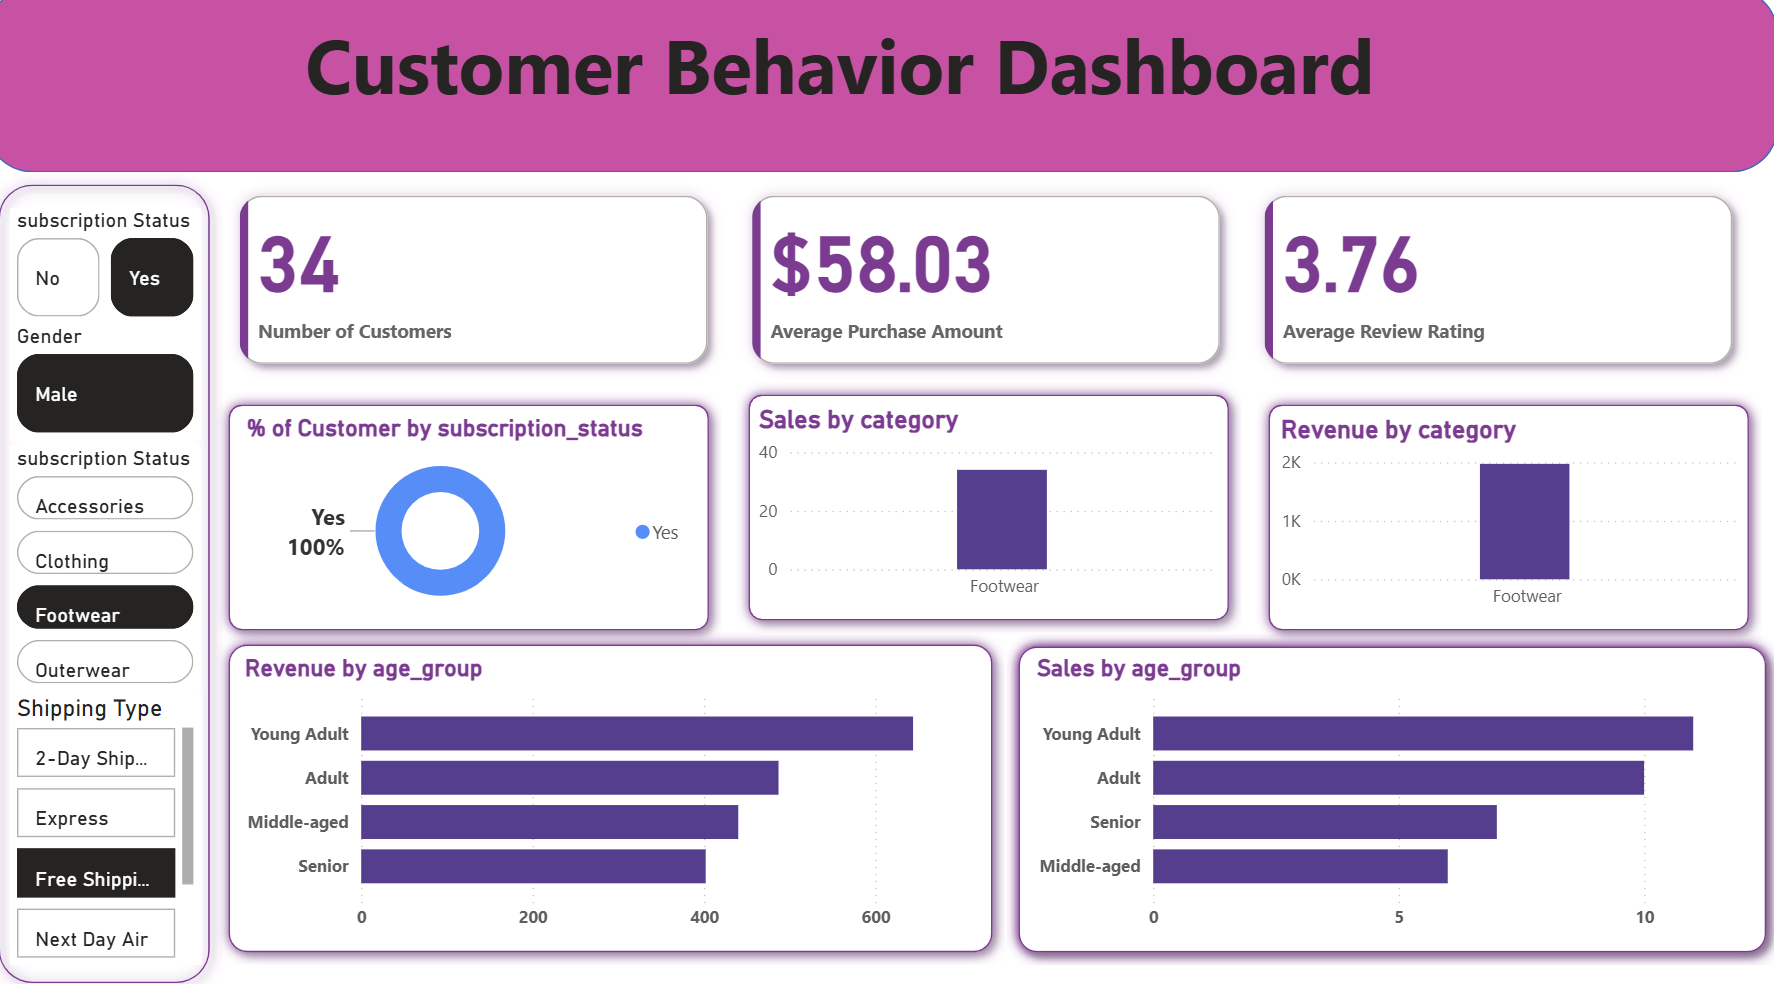

This screenshot's page, from the dashboard's own definition file:
{"tool":"powerbi","page":{"name":"Page 1","canvas":[1280,720],"ordinal":0},"visuals":[{"type":"cardVisual","fields":{"Data":["public customer.Number of Customers","public customer.Average Purchase Amount","public customer.Average Review Rating"]},"box":[164.9,131.2,1100,154.5],"z":0},{"type":"shape","box":[0,0,1280,131.7],"z":1000},{"type":"textbox","box":[35,13.3,1148.3,105],"z":2000},{"type":"shape","box":[535.1,281.8,361,179.2],"z":4000},{"type":"clusteredColumnChart","title":"Sales by category","fields":{"Y":["CountNonNull(public customer.purchase_amount)"],"Category":["public customer.category"]},"box":[546.8,297.4,337.7,148.1],"z":6000},{"type":"shape","box":[0,131.2,168.8,588.3],"z":7000},{"type":"shape","box":[164.9,288.3,361,179.2],"z":8000},{"type":"shape","box":[907.8,288.3,361,179.2],"z":9000},{"type":"clusteredColumnChart","title":"Revenue by category","fields":{"Y":["Sum(public customer.purchase_amount)"],"Category":["public customer.category"]},"box":[919.5,303.9,337.7,148.1],"z":9001},{"type":"donutChart","title":"% of Customer by subscription_status","fields":{"Category":["public customer.subscription_status"],"Y":["Sum(public customer.review_rating)"]},"box":[181.8,303.9,327.3,148.1],"z":9002},{"type":"advancedSlicerVisual","title":"Gender","fields":{"Values":["public customer.gender"]},"box":[16.9,240.3,136.4,83.1],"z":9004},{"type":"advancedSlicerVisual","title":"subscription Status","fields":{"Values":["public customer.category"]},"box":[16.9,327.3,136.4,176.6],"z":9005},{"type":"advancedSlicerVisual","title":"subscription Status","fields":{"Values":["public customer.subscription_status"]},"box":[16.9,157.1,136.4,83.1],"z":9006},{"type":"advancedSlicerVisual","title":"Shipping Type","fields":{"Values":["public customer.shipping_type"]},"box":[16.9,503.9,136.4,193.5],"z":9007},{"type":"shape","box":[164.9,459.7,563.6,237.7],"z":9010},{"type":"clusteredBarChart","title":"Revenue  by age_group","fields":{"Y":["Sum(public customer.purchase_amount)"],"Category":["public customer.age_group"]},"box":[180.5,475.3,532.5,206.5],"z":9011},{"type":"shape","box":[728.6,461,551.9,236.4],"z":9012},{"type":"shape","box":[728.1,461,551.9,236.4],"z":9013},{"type":"clusteredBarChart","title":"Sales  by age_group","fields":{"Y":["CountNonNull(public customer.purchase_amount)"],"Category":["public customer.age_group"]},"box":[745.5,475.3,520.8,206.5],"z":9014}]}

Visuals, with their boxes in screenshot pixels (x1, y1, x2, y2), scaled from the page's 1280x720 canvas onto the 1774x984 screenshot:
cardVisual - public customer.Number of Customers x public customer.Average Purchase Amount: (229, 179, 1753, 390)
shape: (0, 0, 1773, 180)
textbox: (49, 18, 1640, 162)
shape: (742, 385, 1242, 630)
"Sales by category" clusteredColumnChart: (758, 406, 1226, 609)
shape: (0, 179, 234, 983)
shape: (229, 394, 729, 639)
shape: (1258, 394, 1758, 639)
"Revenue by category" clusteredColumnChart: (1274, 415, 1742, 618)
"% of Customer by subscription_status" donutChart: (252, 415, 706, 618)
"Gender" advancedSlicerVisual: (23, 328, 212, 442)
"subscription Status" advancedSlicerVisual: (23, 447, 212, 689)
"subscription Status" advancedSlicerVisual: (23, 215, 212, 328)
"Shipping Type" advancedSlicerVisual: (23, 689, 212, 953)
shape: (229, 628, 1010, 953)
"Revenue  by age_group" clusteredBarChart: (250, 650, 988, 932)
shape: (1010, 630, 1773, 953)
shape: (1009, 630, 1773, 953)
"Sales  by age_group" clusteredBarChart: (1033, 650, 1755, 932)
